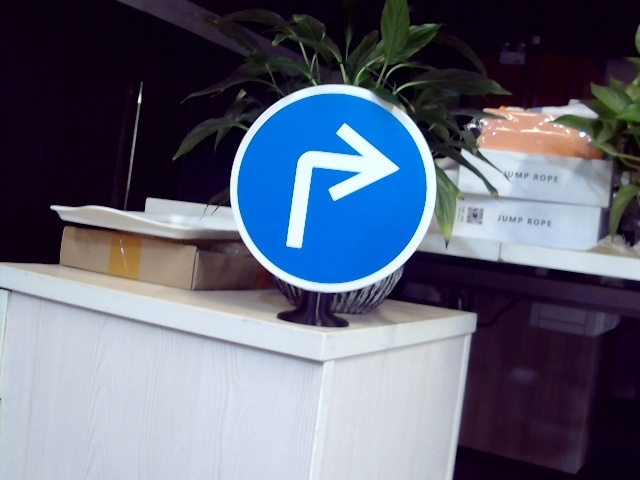turn_right: (283, 122, 400, 250)
